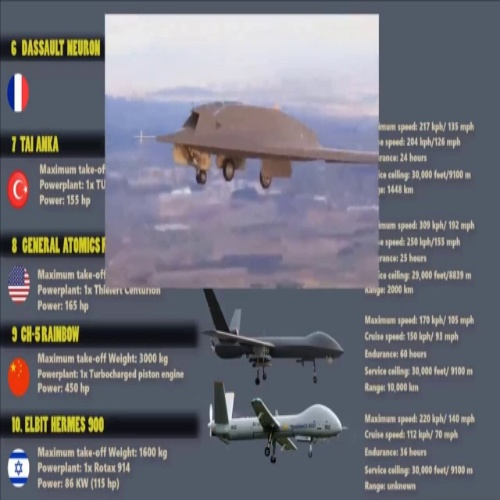uav874: (137, 93, 379, 191), (201, 288, 347, 385), (205, 382, 356, 467)
